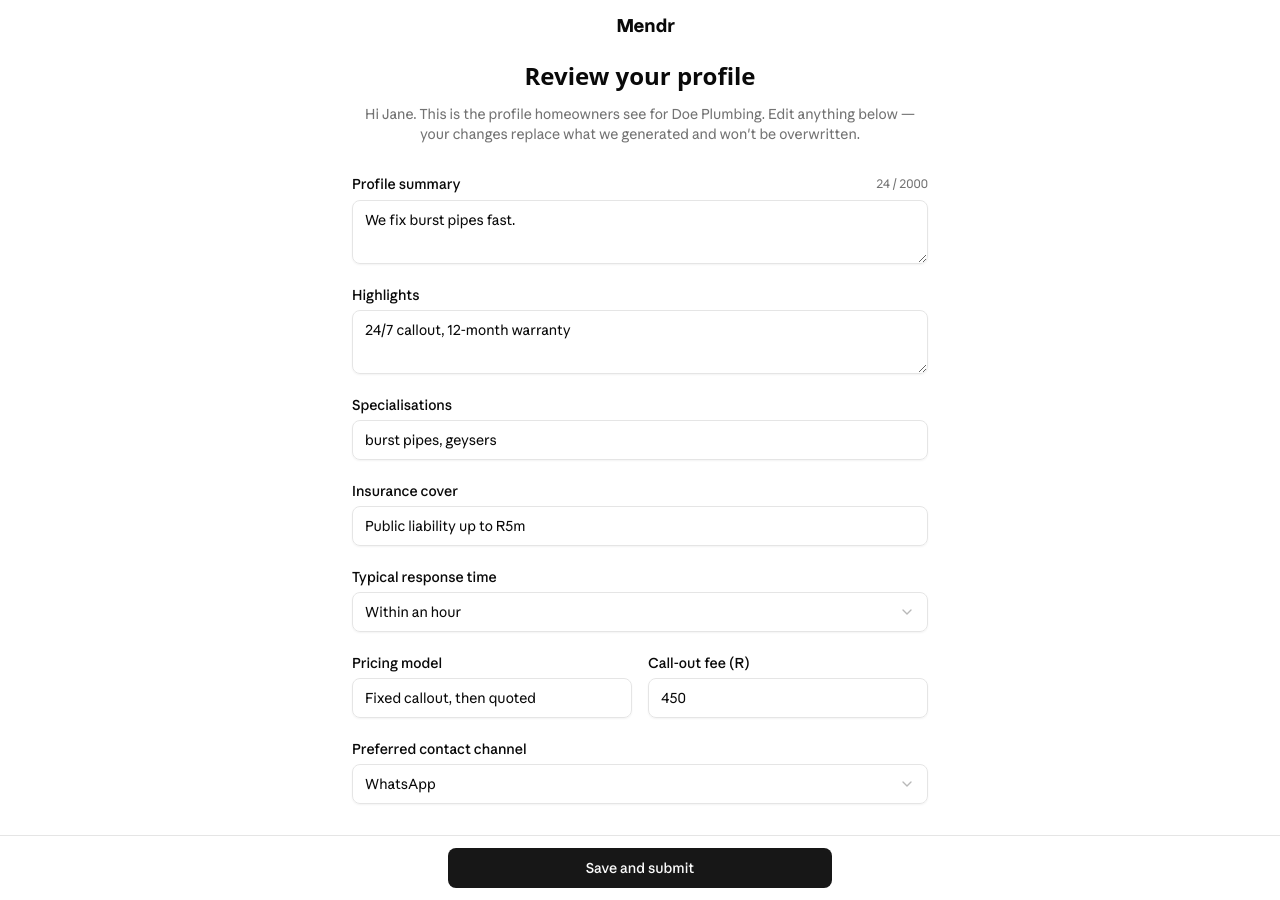
Test: ApplicationEditClient › saves the edited application and shows the saved confirmation
Replace the text in the text box labelled "Profile summary" with "Revised summary for homeowners." at (640, 232), box [352,200,928,264]
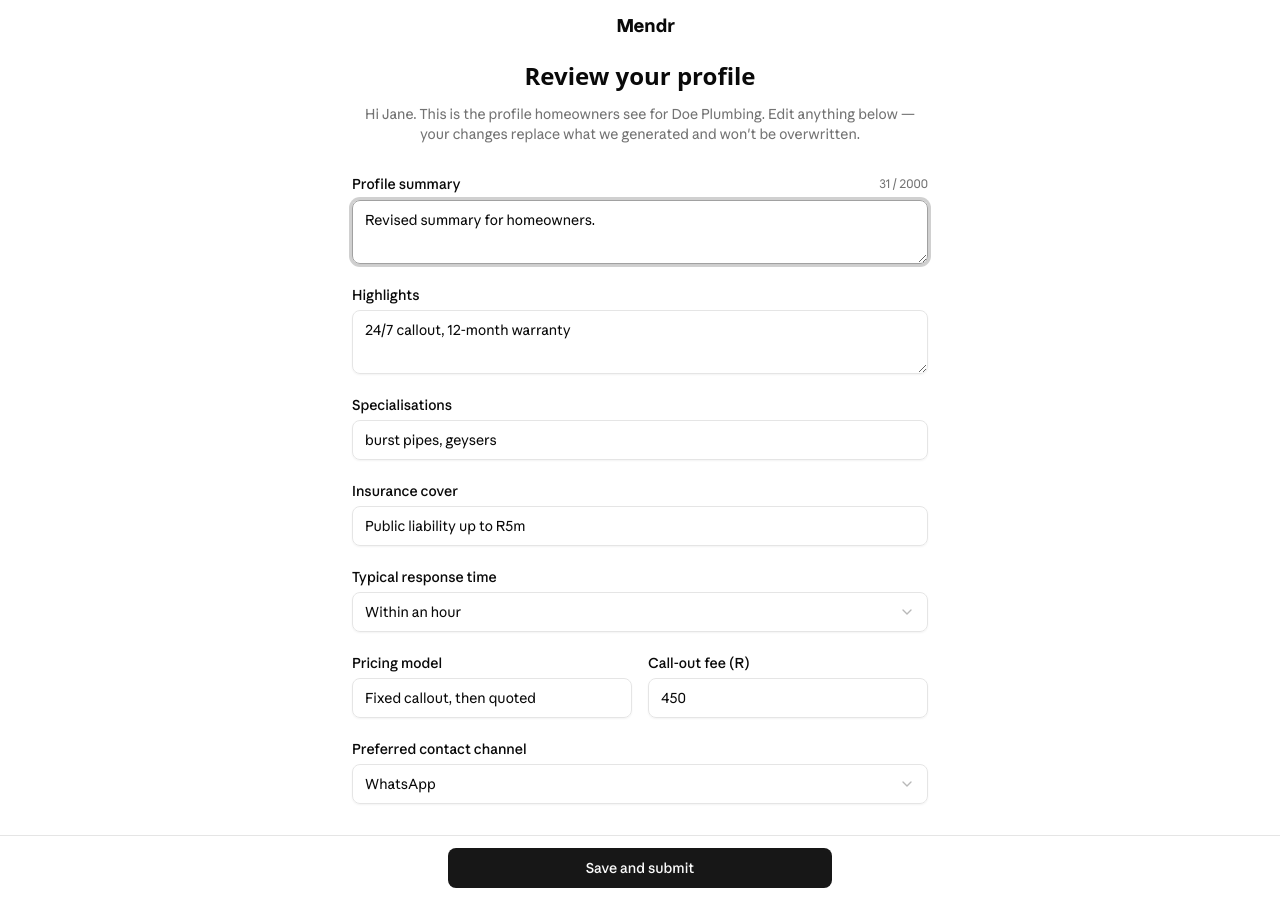
Click the button "Save and submit" at (640, 868), box [448,848,832,888]
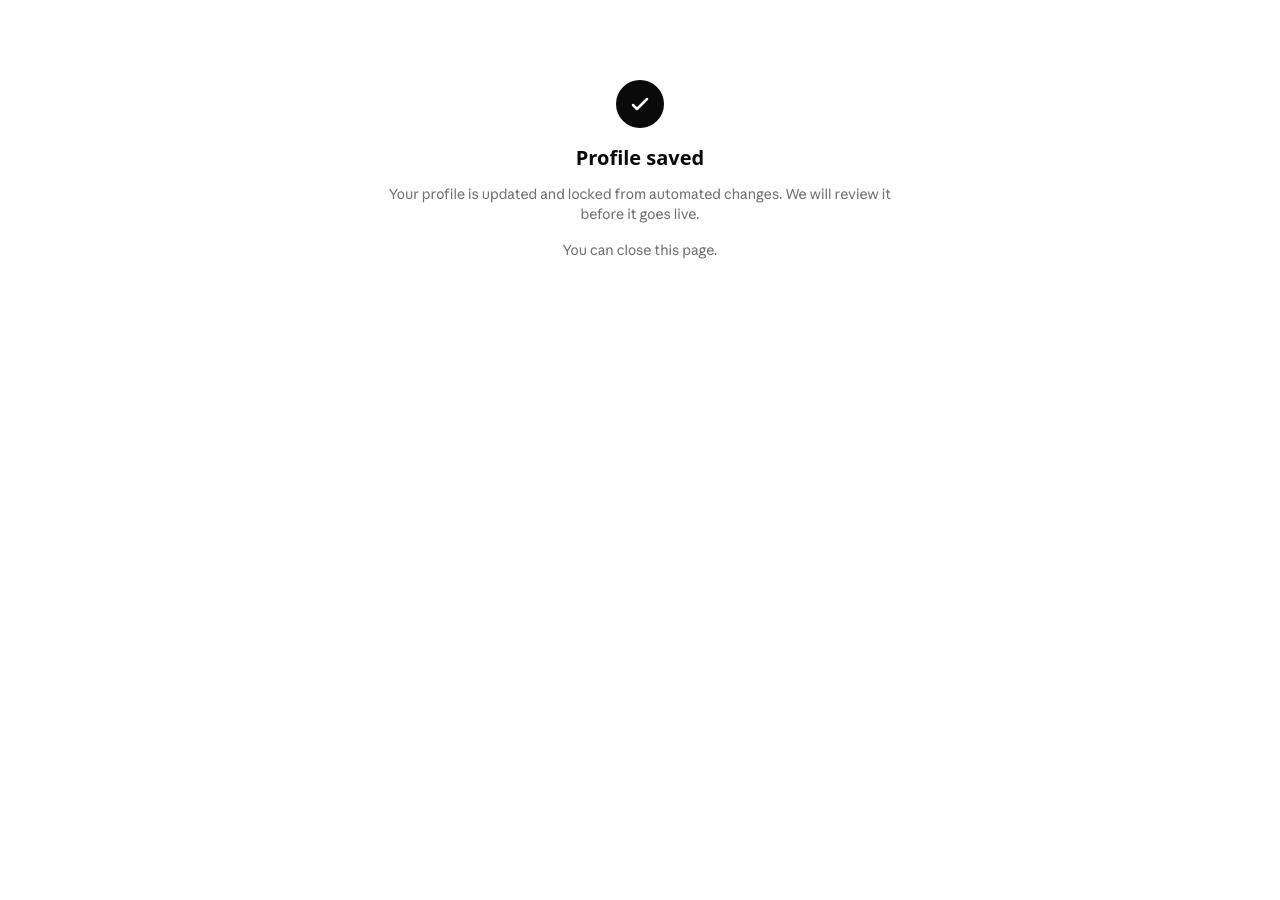
Expected: the heading "Profile saved" is shown, [576,144,704,172]
